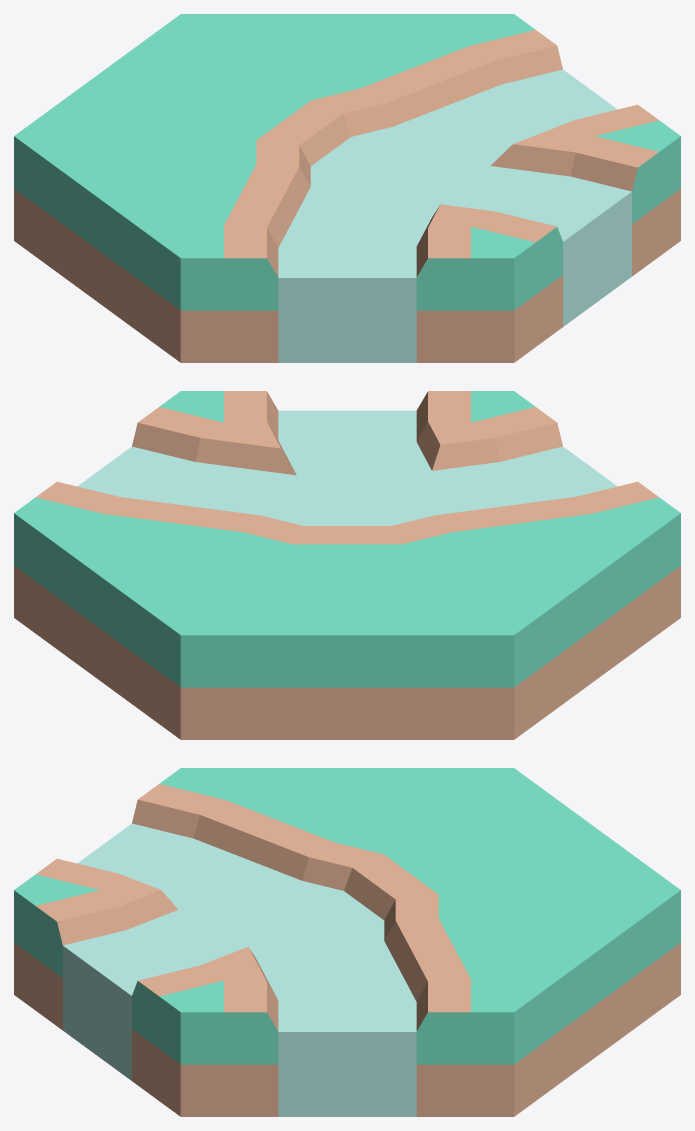
File: river_intersectionA.glb
3 views of the same model, one above another, from view 1: azimuth 30°, elevation 25°; view 2: azimuth 150°, elevation 25°; view 3: azimuth 270°, elevation 25° (orthographic).
Parts seen in each view (by area): view 1: river_intersectionA; view 2: river_intersectionA; view 3: river_intersectionA.
Part boxes in pixels (<box>): river_intersectionA: <box>14,14,680,362</box>; river_intersectionA: <box>14,391,680,739</box>; river_intersectionA: <box>14,768,680,1116</box>.
Size of the model in its own units: 1 by 0.2 by 1.15.
